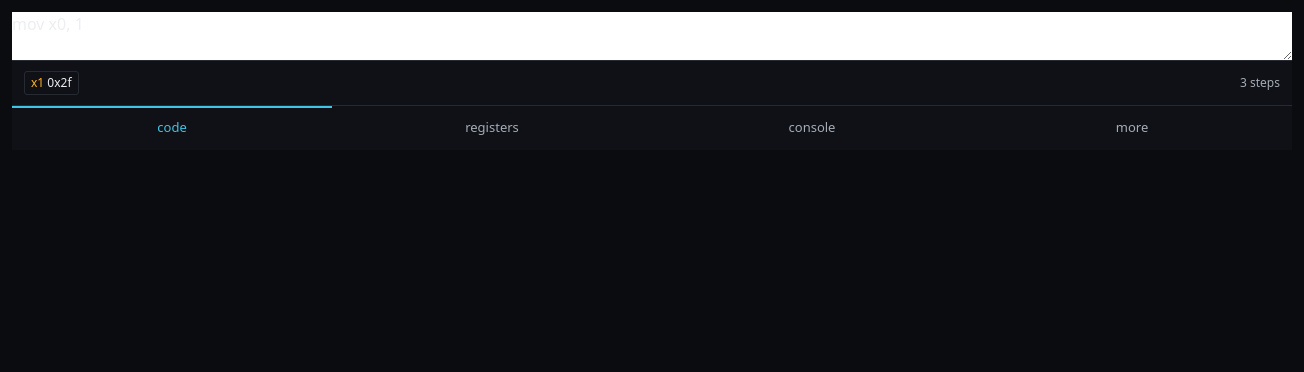
it: PhoneLayout › more lists the views, and one more tap opens one
The image size is (1304, 372).
What coordinates should you click on to do the following:
click the tab "more"
I would click on:
 (1132, 128)
Its box is 972,106 -> 1292,150.
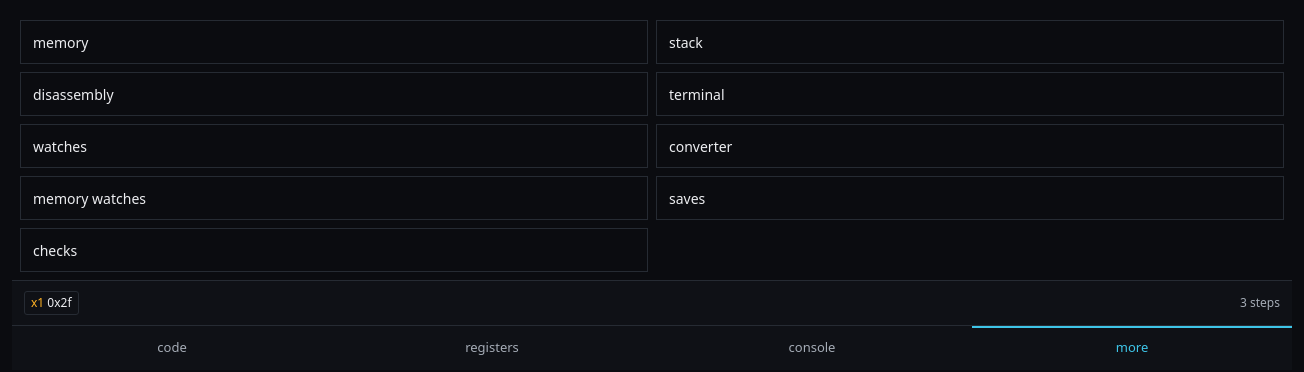
What coordinates should you click on to do the following:
click the button "converter"
I would click on:
 (701, 146)
Its box is 656,124 -> 1284,168.
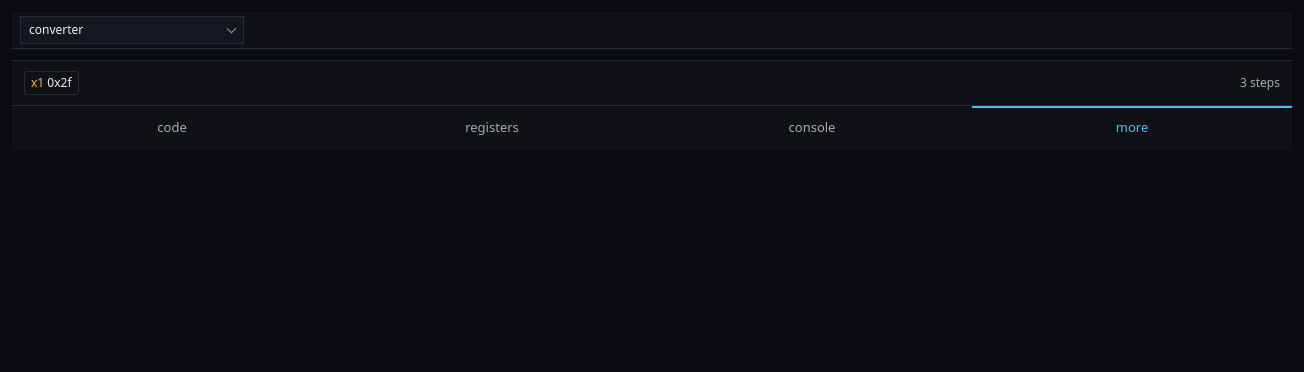
# Back on "more", the list comes first again.
What coordinates should you click on to do the following:
click the tab "more"
I would click on:
 (1132, 128)
Its box is 972,106 -> 1292,150.
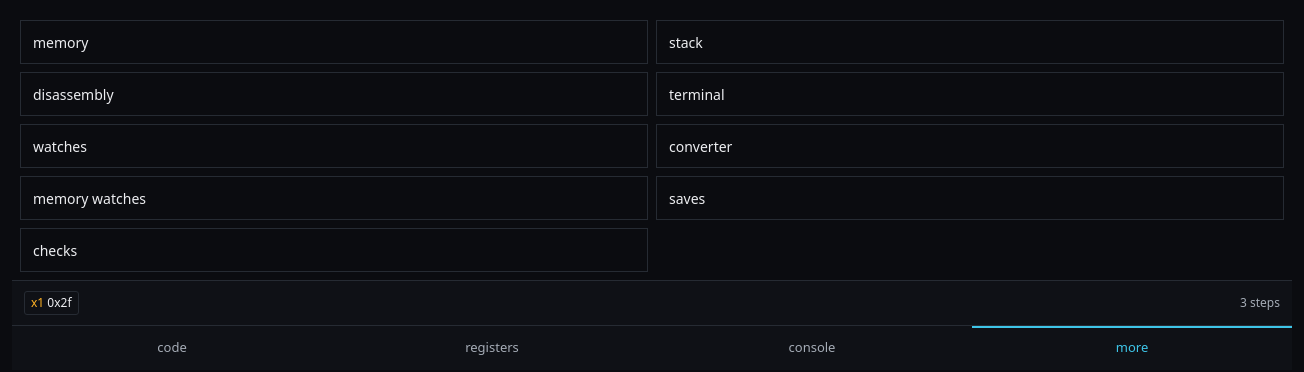
Expected: the element named "choose a view" is shown
